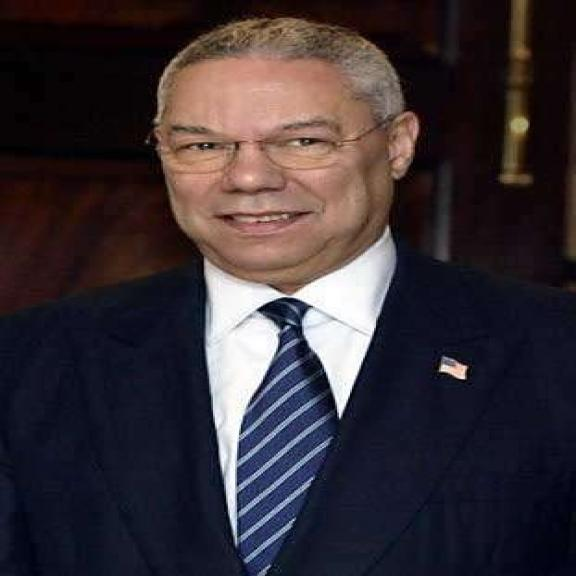face: (152, 44, 426, 277)
